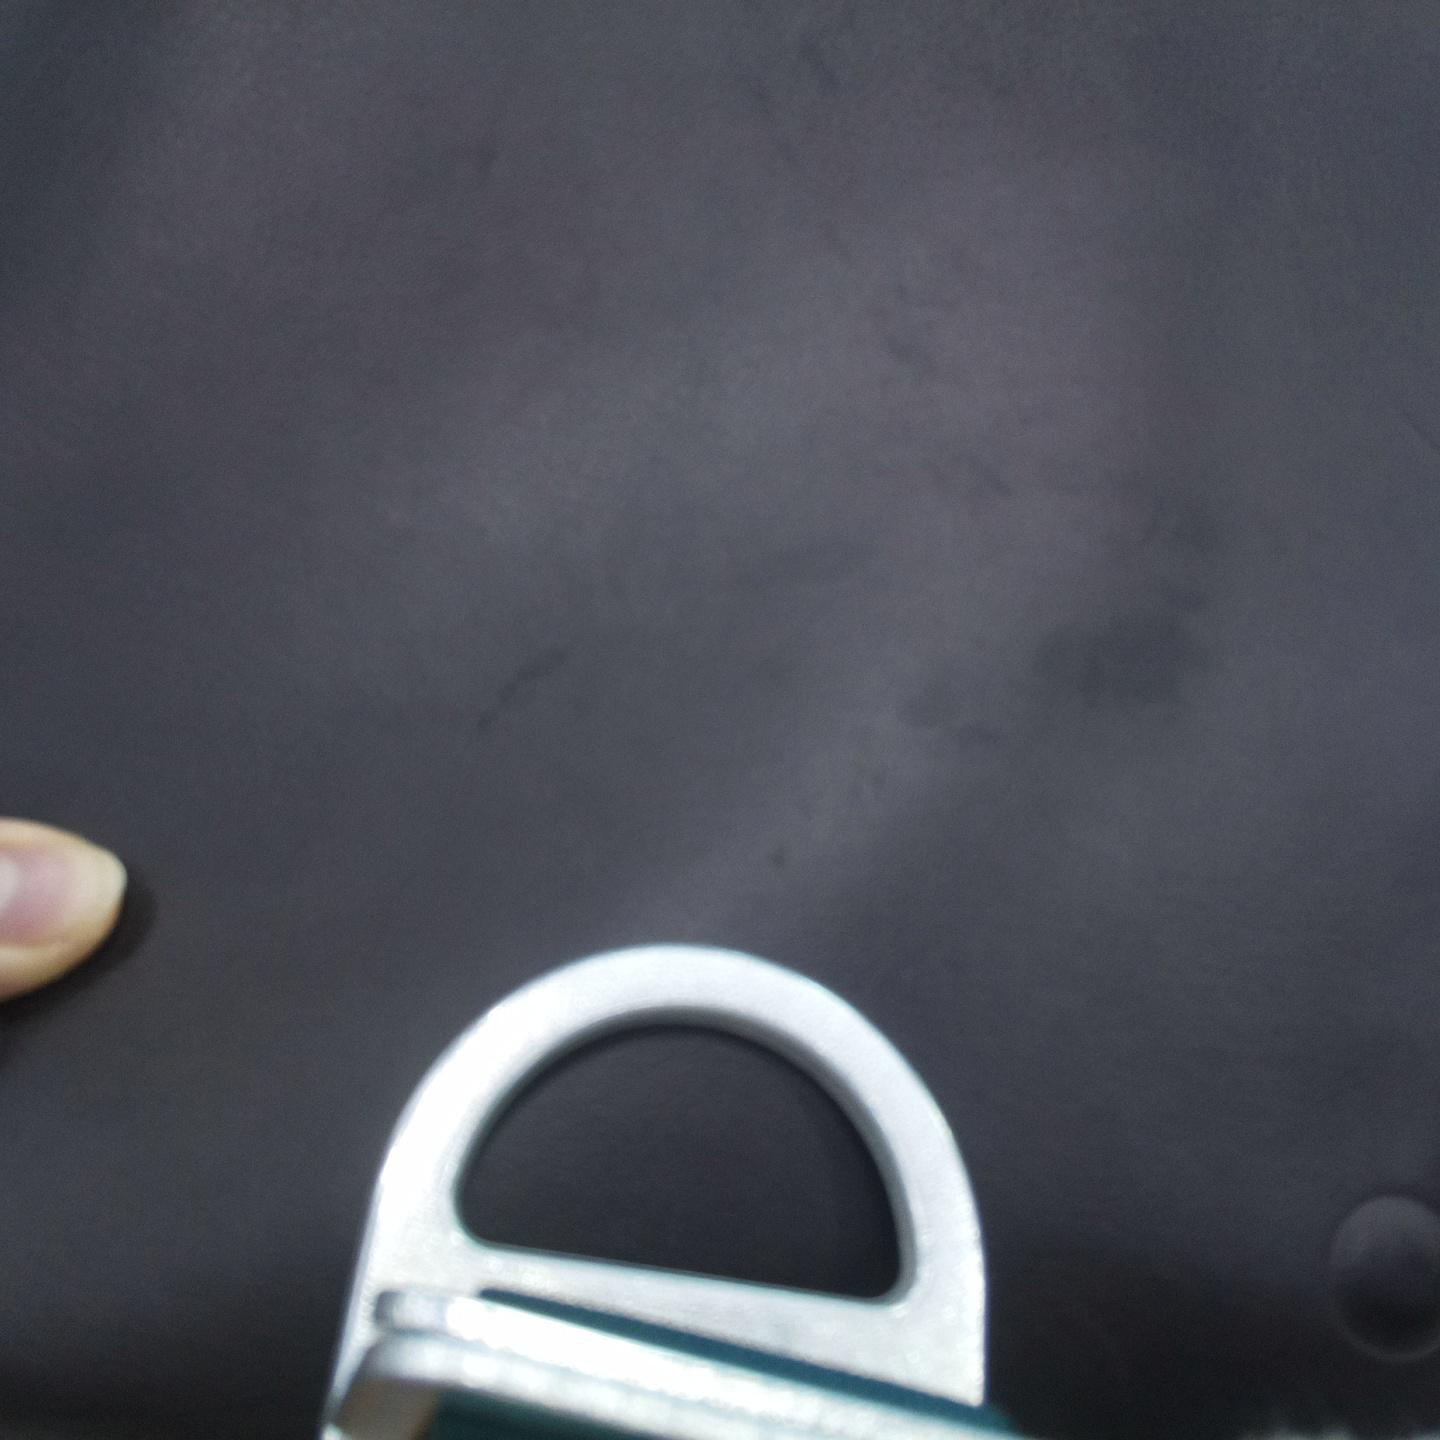UNSUCCESS: (320, 940, 990, 1387)
